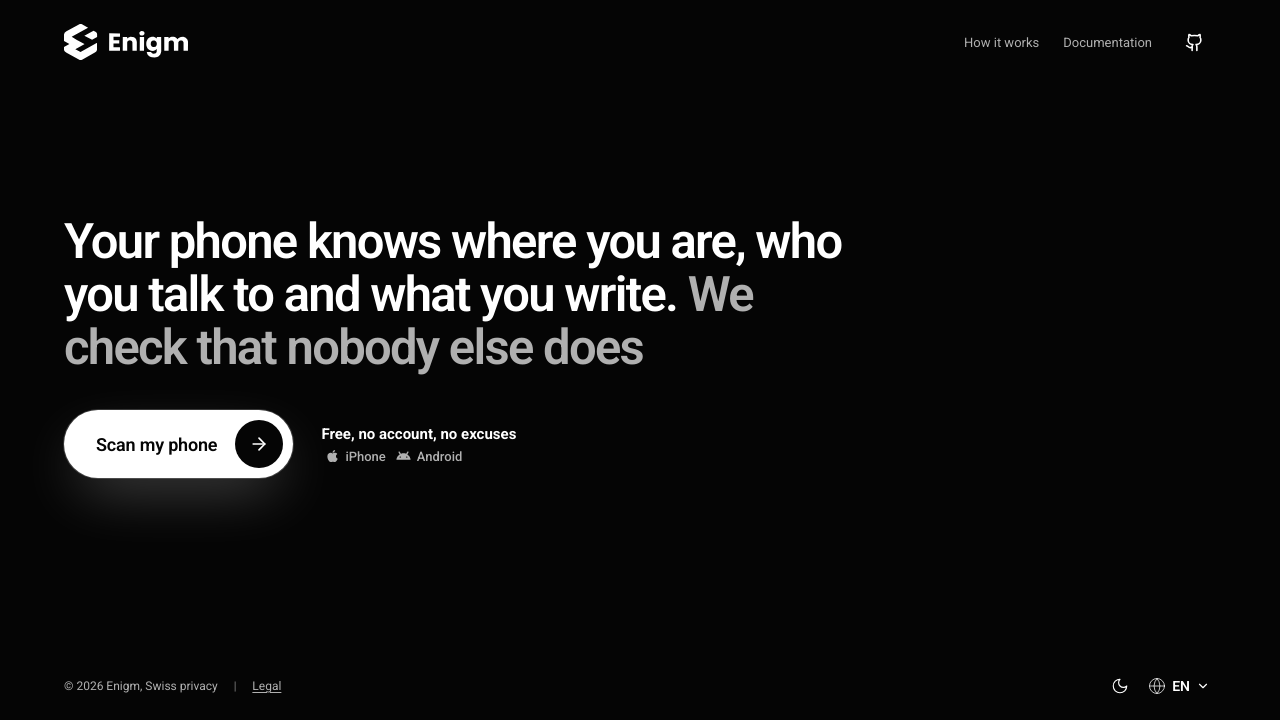
it: website journey › changes product copy with the selected language
Click the button with aria-label "Open language list".
click(1179, 686)  # box [1142,668,1216,704]
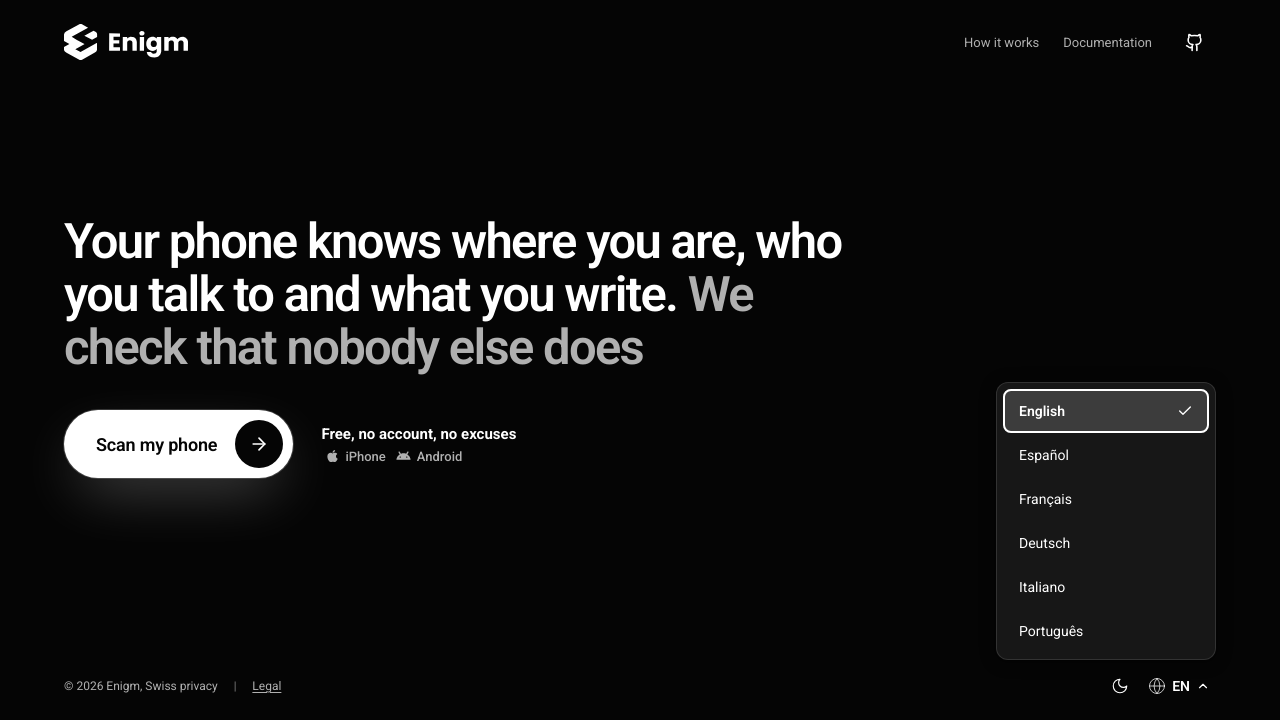
Click the menu item "Español".
click(1106, 455)  # box [1003,433,1209,477]
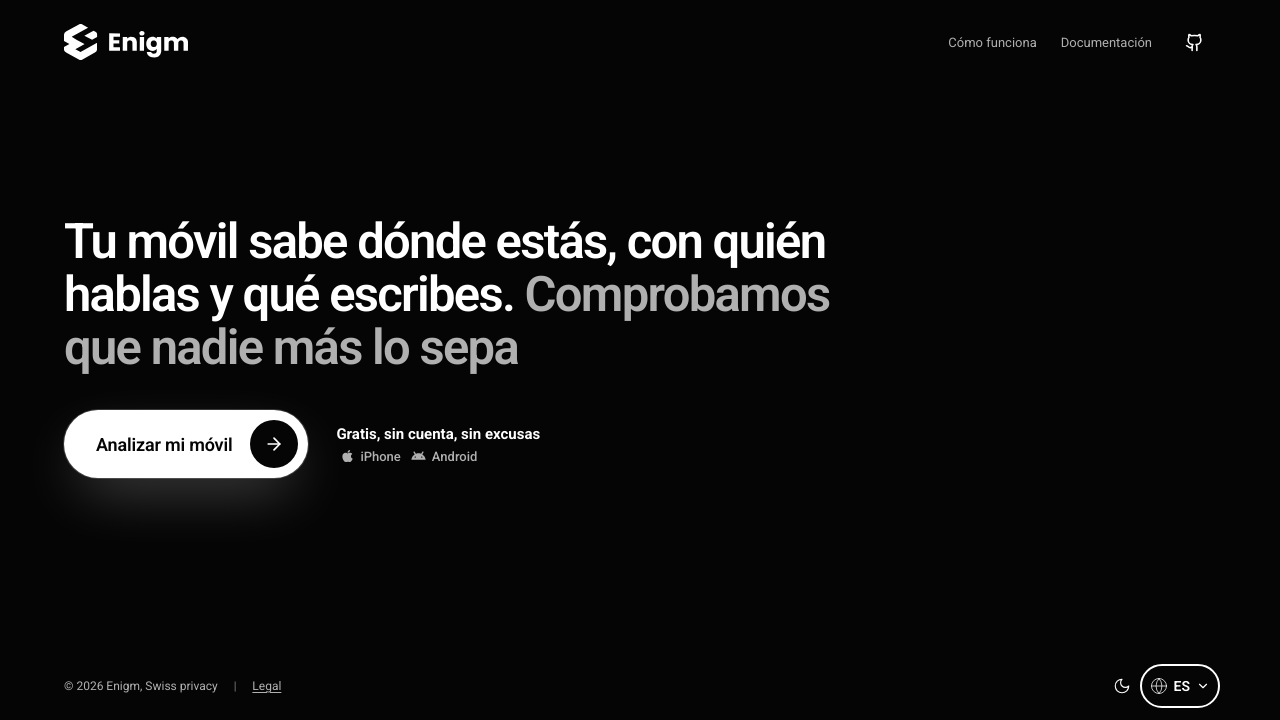
Check: the heading "Tu móvil sabe dónde estás, con quién hablas y qué escribes." is shown, box [64,216,872,374]
